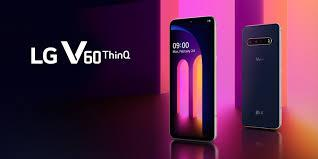Smartphone: (235, 21, 287, 130), (172, 19, 214, 141)
